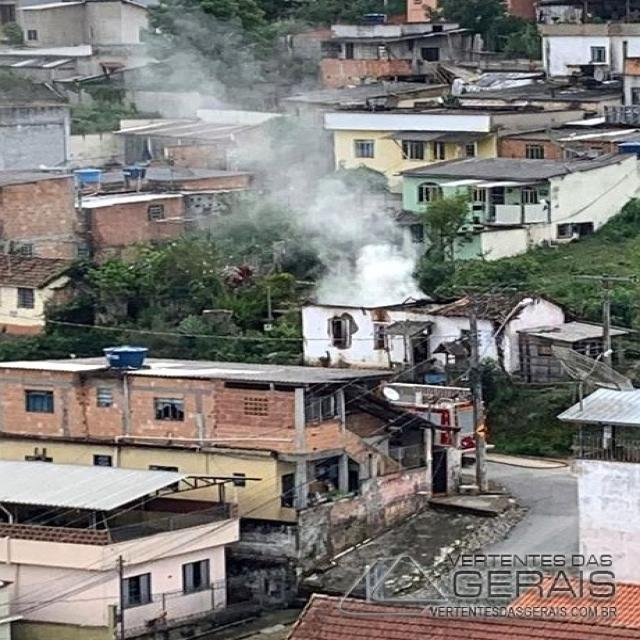Smoke: (112, 42, 430, 306)
